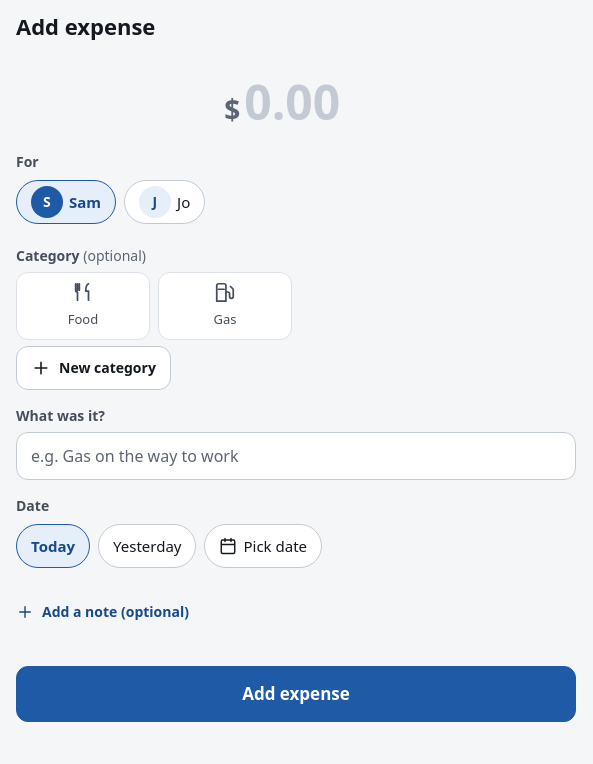
Test: AddExpensePage chooser for every role › previews a Parent's choice of child
Expected: the radio button labelled "S Sam" is shown, [16,180,116,224]
Expected: the button "Add expense" is shown, [16,666,576,722]
Type "42.17" into the field named "Amount" at (306, 102), box [244,72,368,132]
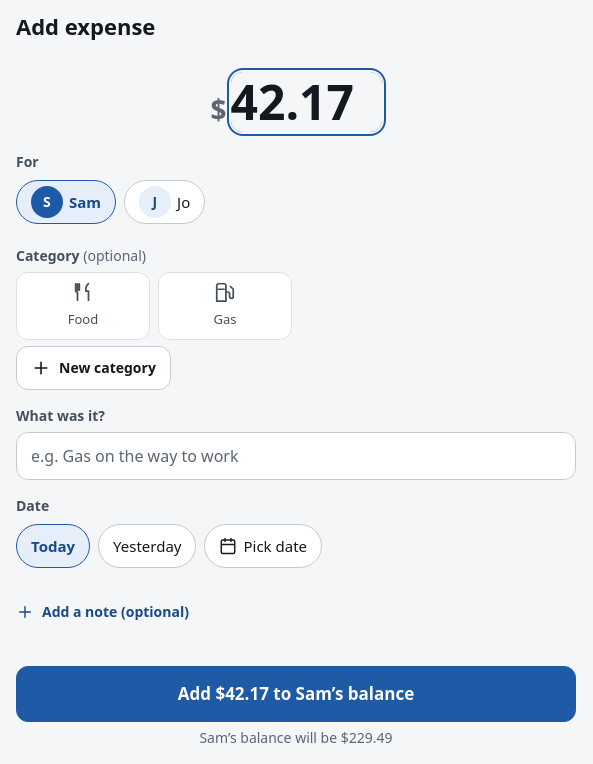
Expected: the button "Add $42.17 to Sam’s balance" is shown, [16,666,576,722]
Expected: the text with test id "expense-balance-preview" reads "Sam’s balance will be $229.49", [199,728,392,747]
Click the radio button labelled "Jo" at (165, 202), box [124,180,205,224]
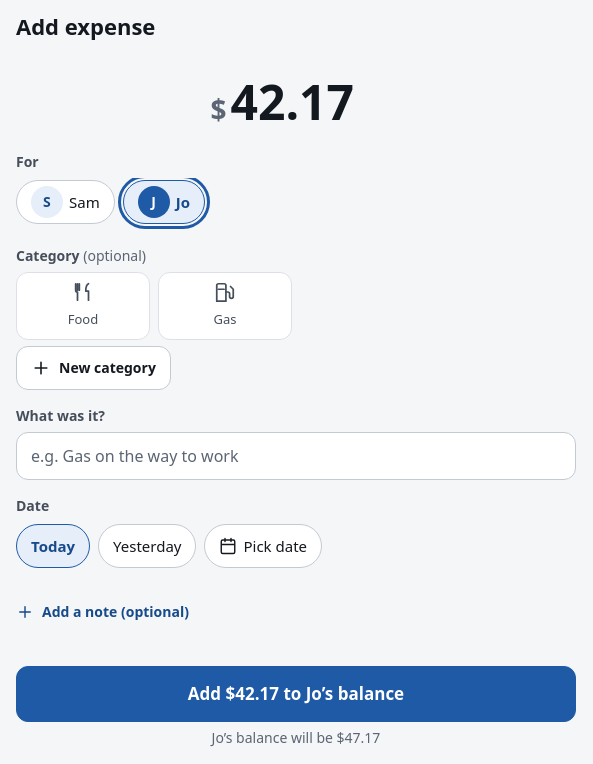
Expected: the text with test id "expense-balance-preview" reads "Jo’s balance will be $47.17", [212,728,380,747]
